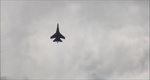maybay_muctieu: (49, 22, 66, 45)
